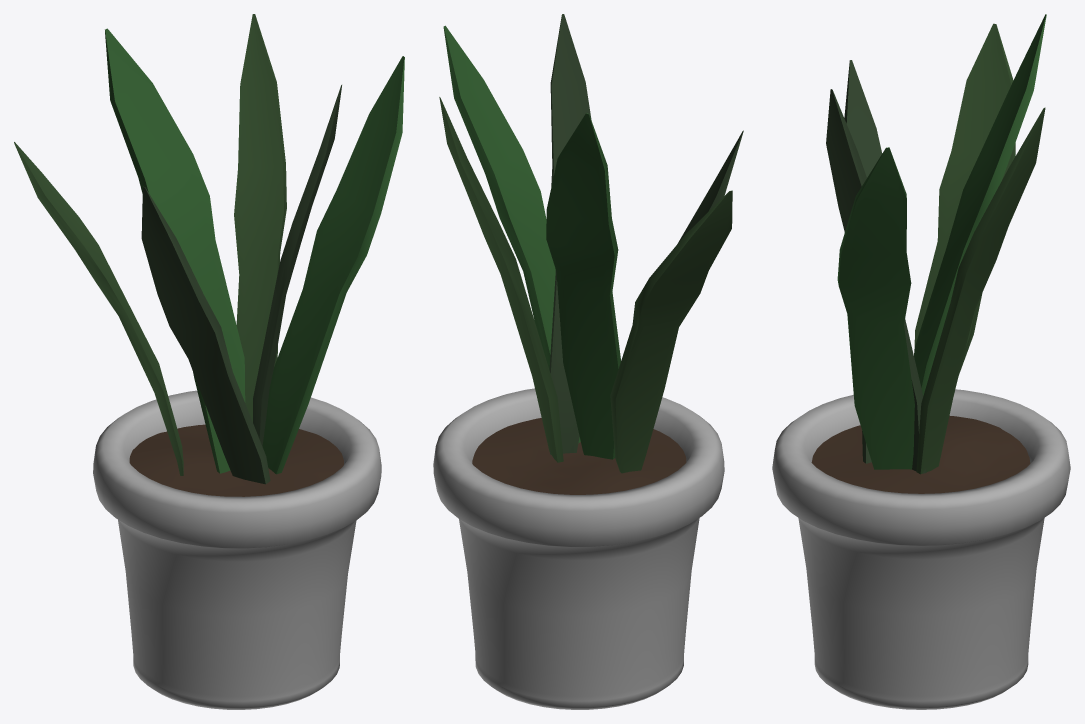
The model's file is Plant_1.fbx.
3 views of the same model, side by side, from view 1: azimuth 30°, elevation 25°; view 2: azimuth 150°, elevation 25°; view 3: azimuth 270°, elevation 25° (orthographic).
Visible parts, largest first — view 1: pCylinder2, pCube13, pCube12, pCube14, pCube15, pDisc2, pCube16, pCube17; view 2: pCylinder2, pCube12, pCube16, pCube13, pDisc2, pCube14, pCube17, pCube15; view 3: pCylinder2, pCube13, pCube14, pDisc2, pCube12, pCube16, pCube17, pCube15.
Boxes of the visible parts, left/top/right/bottom form: pCylinder2: left=93, top=390, right=381, bottom=709; pCube13: left=262, top=56, right=404, bottom=474; pCube12: left=105, top=28, right=245, bottom=473; pCube14: left=234, top=14, right=286, bottom=421; pCube15: left=141, top=186, right=270, bottom=484; pDisc2: left=129, top=424, right=343, bottom=496; pCube16: left=14, top=142, right=183, bottom=475; pCube17: left=253, top=85, right=341, bottom=446; pCylinder2: left=433, top=388, right=724, bottom=709; pCube12: left=546, top=113, right=620, bottom=459; pCube16: left=610, top=190, right=732, bottom=473; pCube13: left=443, top=25, right=580, bottom=443; pDisc2: left=472, top=418, right=686, bottom=494; pCube14: left=439, top=97, right=563, bottom=462; pCube17: left=549, top=14, right=591, bottom=454; pCube15: left=678, top=130, right=743, bottom=242; pCylinder2: left=772, top=389, right=1070, bottom=709; pCube13: left=837, top=147, right=914, bottom=469; pCube14: left=916, top=107, right=1045, bottom=474; pDisc2: left=811, top=415, right=1030, bottom=493; pCube12: left=914, top=14, right=1046, bottom=395; pCube16: left=914, top=23, right=1015, bottom=374; pCube17: left=826, top=89, right=926, bottom=473; pCube15: left=844, top=60, right=882, bottom=463.
Size of the model in its own units: 3.65 by 6.33 by 2.75.
